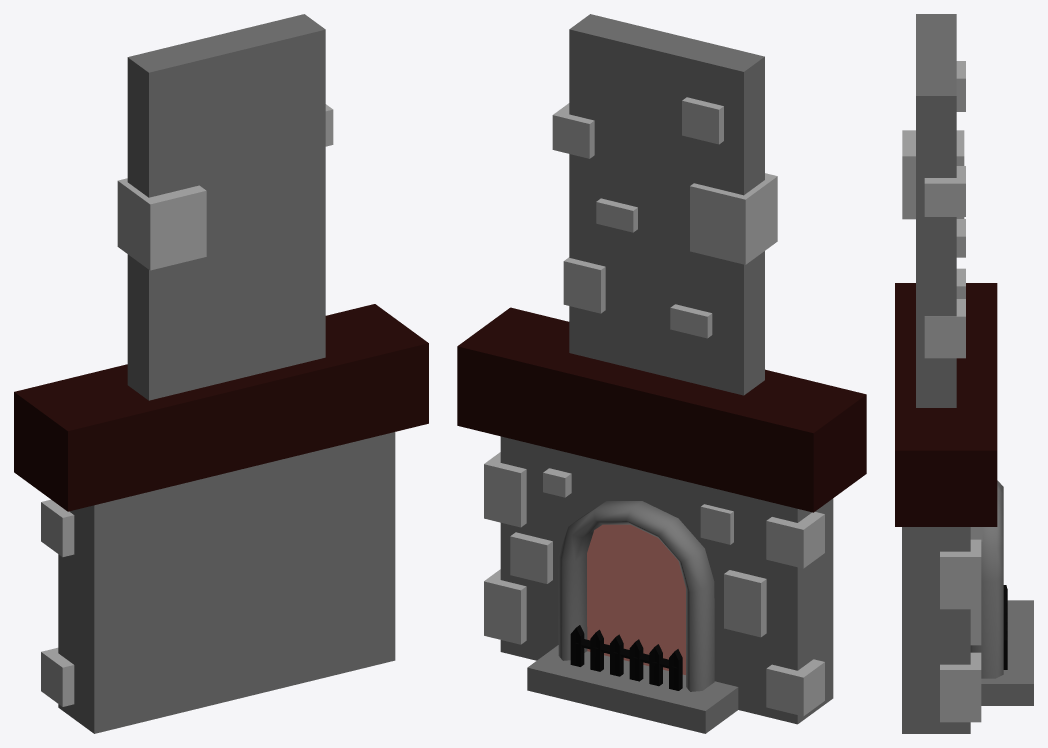
File: Fire place.fbx
The picture shows the model from 3 angles, left to right: view 1: azimuth 30°, elevation 25°; view 2: azimuth 150°, elevation 25°; view 3: azimuth 270°, elevation 25°; orthographic projection. The views are drawn at different scales.
Visible parts, largest first — view 1: Cube.023; view 2: Cube.023; view 3: Cube.023.
Part boxes in pixels (<box>): Cube.023: <box>14,14,428,733</box>; Cube.023: <box>457,14,866,733</box>; Cube.023: <box>895,14,1033,733</box>.
Size of the model in its own units: 576 by 977 by 202.
